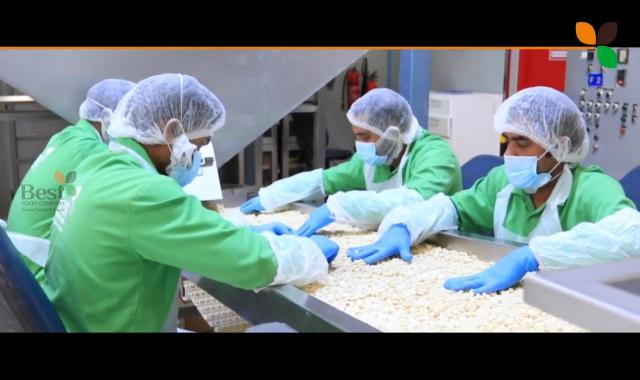hairnet: (496, 82, 591, 162), (111, 74, 222, 141), (349, 88, 417, 144)
